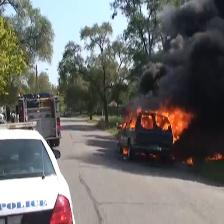fire: (156, 110, 191, 135)
smoke: (169, 8, 220, 104)
